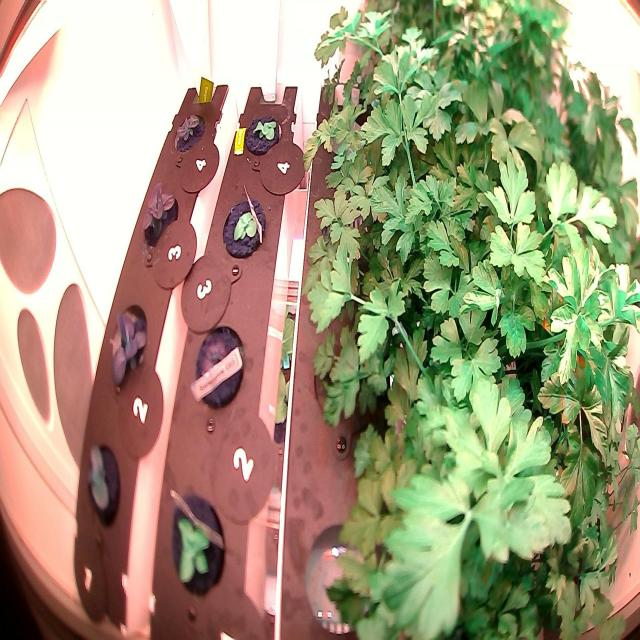empty_pod: (295, 506, 377, 640)
pod: (186, 310, 250, 418)
young: (160, 489, 233, 609), (77, 434, 127, 539), (104, 297, 152, 395), (218, 191, 270, 267), (235, 101, 287, 167), (140, 175, 182, 250), (172, 100, 208, 158)
